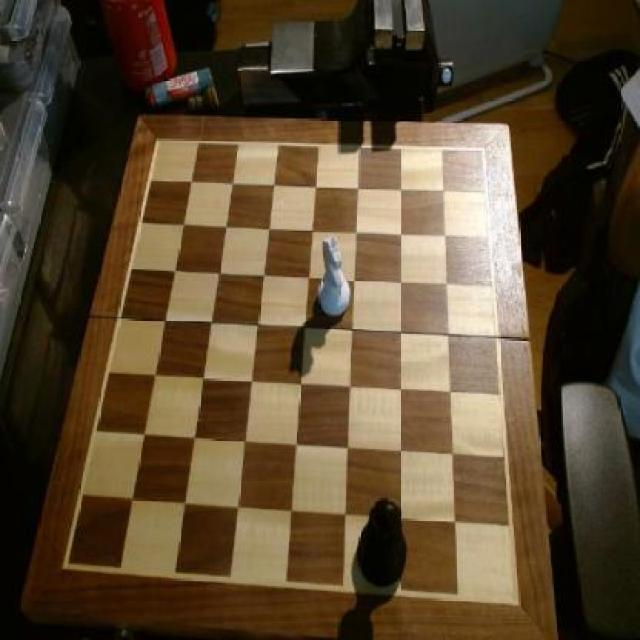black-pawn: (358, 496, 407, 586)
white-king: (317, 235, 353, 321)
